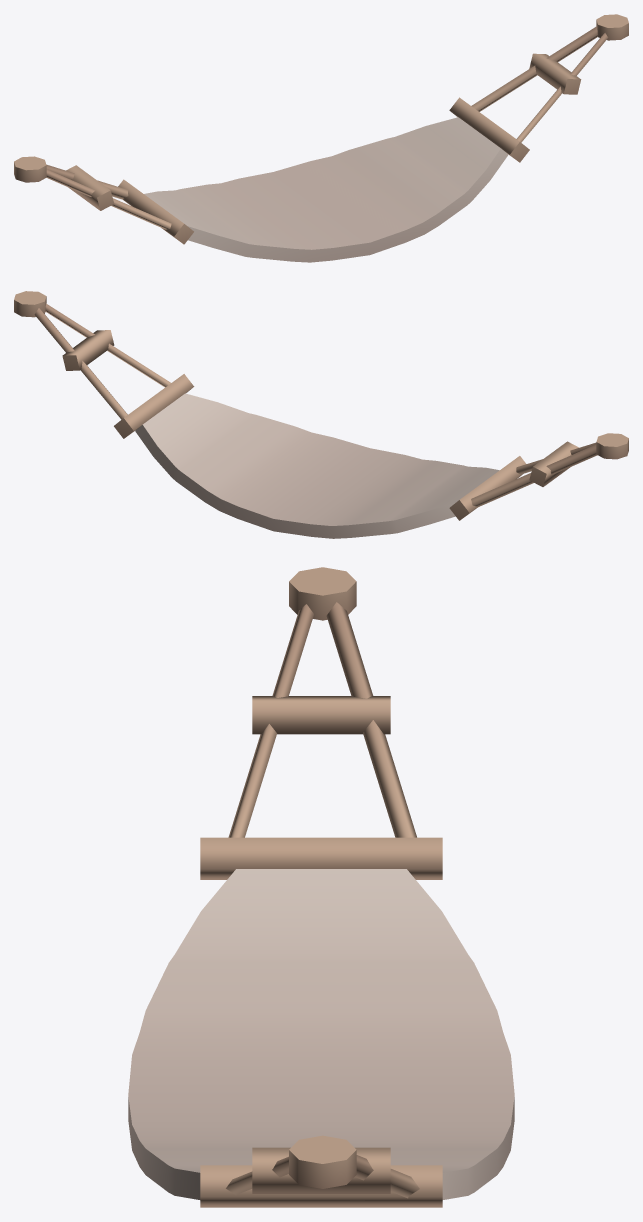
File: hammock.glb
The picture shows the model from 3 angles, top to bottom: view 1: azimuth 30°, elevation 25°; view 2: azimuth 150°, elevation 25°; view 3: azimuth 270°, elevation 25°; orthographic projection. The views are drawn at different scales.
Parts seen in each view (by area): view 1: hammock; view 2: hammock; view 3: hammock.
Boxes of the visible parts, x1,y1,x2,y2 form: hammock: (14,14,628,262); hammock: (14,291,628,538); hammock: (128,567,514,1207).
Size of the model in its own units: 2.57 by 0.51 by 0.702.
